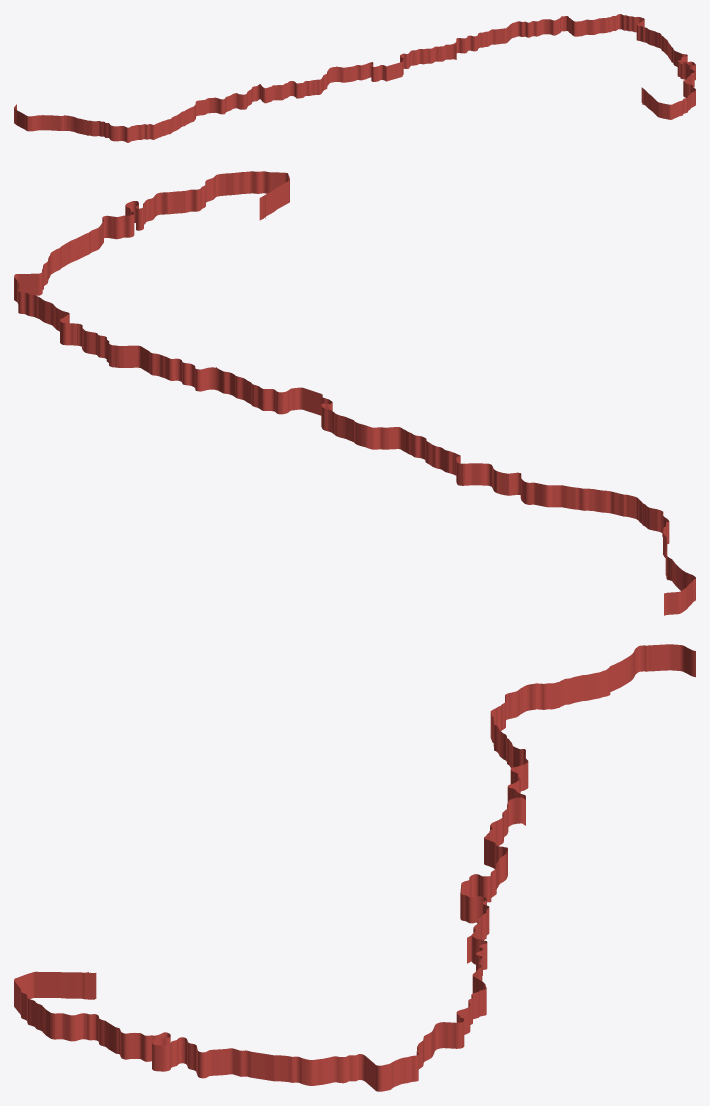
File: arosa-rhb-railway.glb
The picture shows the model from 3 angles, top to bottom: view 1: azimuth 30°, elevation 25°; view 2: azimuth 150°, elevation 25°; view 3: azimuth 270°, elevation 25°; orthographic projection. The views are drawn at different scales.
Parts seen in each view (by area): view 1: Chur-Arosa-Railway; view 2: Chur-Arosa-Railway; view 3: Chur-Arosa-Railway.
Part boxes in pixels (left/top/right/bottom): Chur-Arosa-Railway: left=14, top=14, right=695, bottom=142; Chur-Arosa-Railway: left=14, top=171, right=695, bottom=615; Chur-Arosa-Railway: left=14, top=644, right=695, bottom=1091.
Bounding box in the file's own units: 4977 × 424 × 3139.
